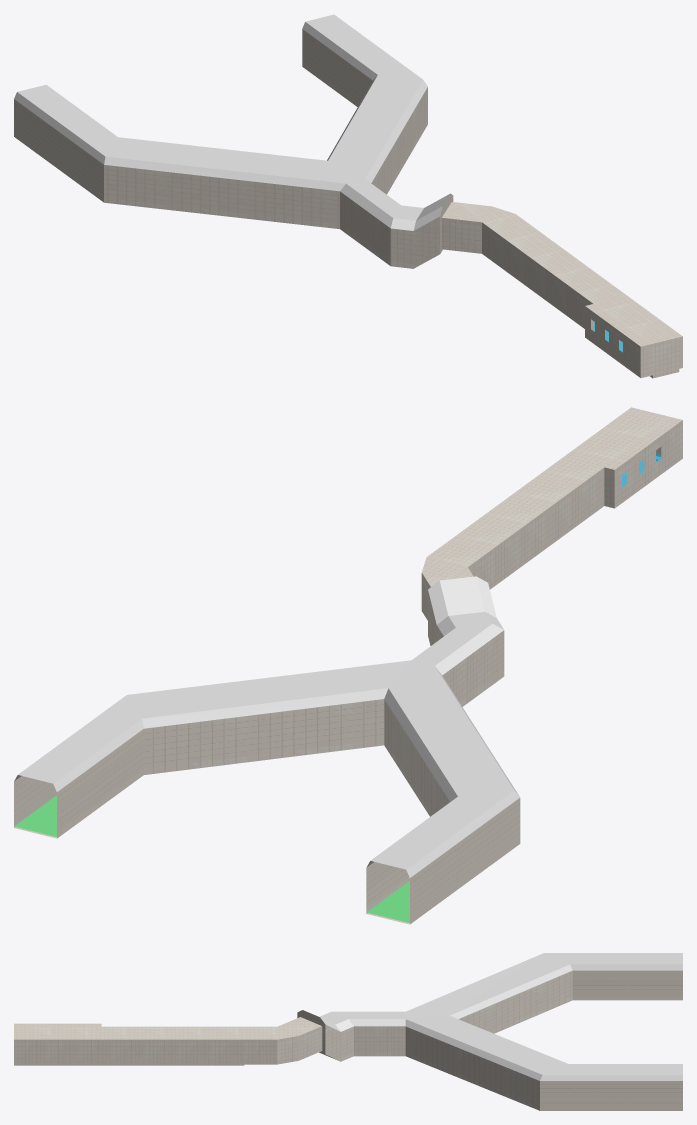
The model's file is pools.glb.
The picture shows the model from 3 angles, top to bottom: view 1: azimuth 30°, elevation 25°; view 2: azimuth 150°, elevation 25°; view 3: azimuth 270°, elevation 25°; orthographic projection. The views are drawn at different scales.
Visible parts, largest first — view 1: tiles; view 2: tiles, water; view 3: tiles.
Part boxes in pixels (box(x1,y1,x2,y2)): tiles: box(14, 14, 682, 378); tiles: box(14, 407, 682, 924); water: box(14, 453, 661, 922); tiles: box(14, 953, 682, 1110).
Size of the model in its own units: 53.59 by 9.83 by 122.
7 materials, 3 textured.
